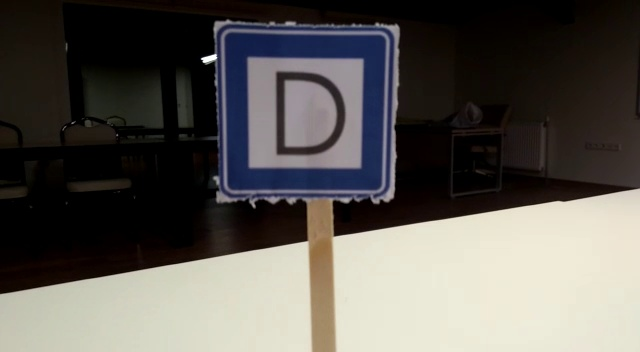durak: (216, 24, 396, 198)
